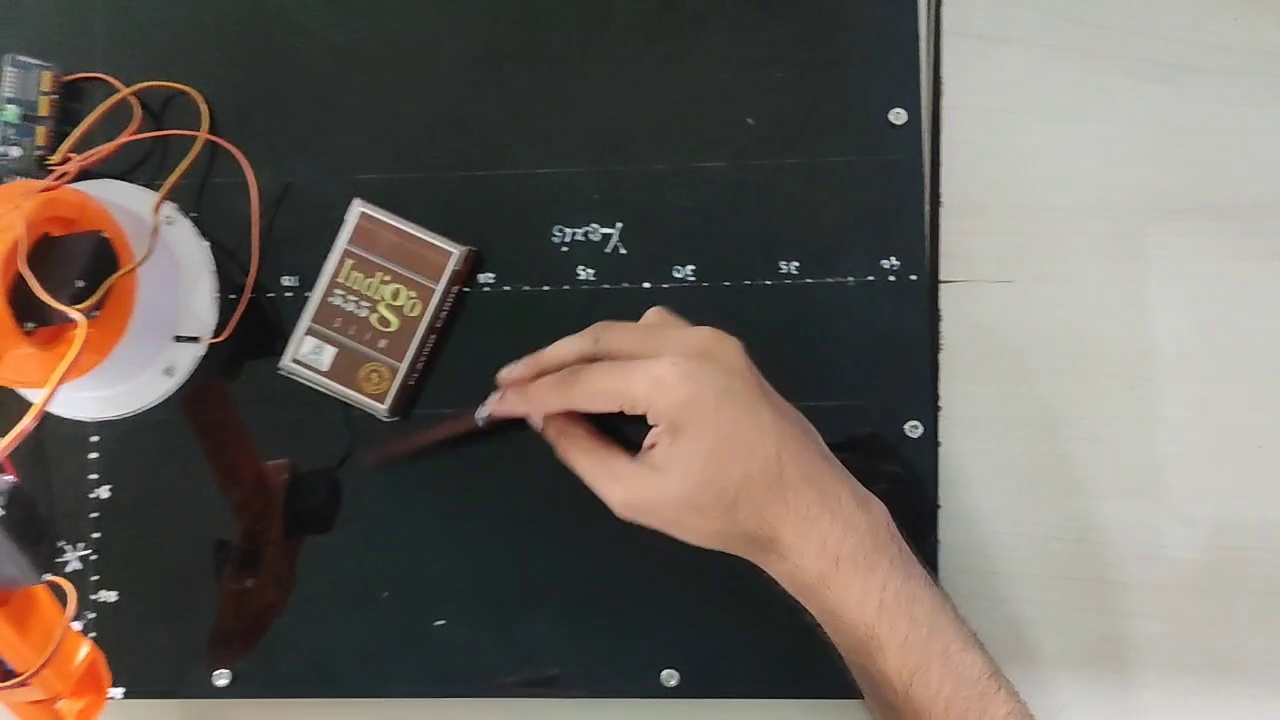BEX: (288, 208, 456, 404)
